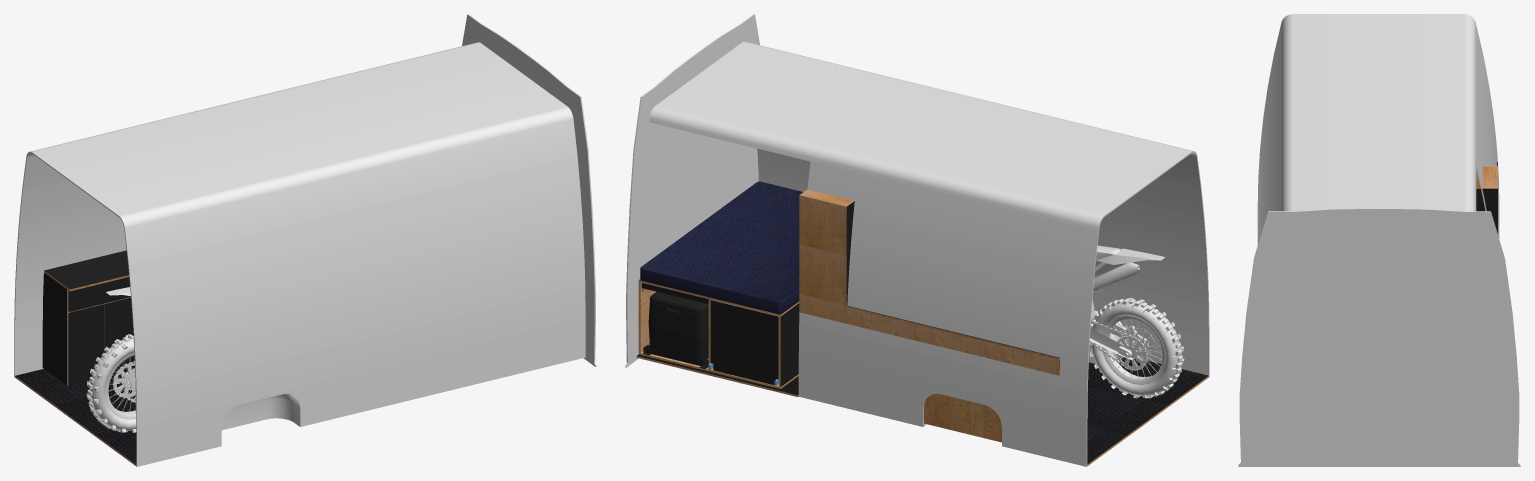
3 renders of one model, left to right at view 1: azimuth 30°, elevation 25°; view 2: azimuth 150°, elevation 25°; view 3: azimuth 270°, elevation 25°, orthographic.
Visible parts, largest first — view 1: Van_roof (×2), Front Van, object 43, ske195, Door_LH, End_LH, object 46, Bench_Top, Door_RH, DF_1; view 2: Van_roof (×2), Front Van, Mattres, Back (×6), ske195, object 43, DF_1, FRIDGE29L, Side (×2), Bench_Top; view 3: Front Van, Van_roof (×2), End_RH.
Boxes of the visible parts, x1,y1,x2,y2 form: Van_roof (×2): [14, 42, 585, 466]; Front Van: [462, 14, 596, 366]; object 43: [15, 369, 136, 465]; ske195: [89, 287, 136, 430]; Door_LH: [67, 304, 103, 386]; End_LH: [42, 272, 67, 385]; object 46: [219, 391, 302, 446]; Bench_Top: [44, 250, 129, 291]; Door_RH: [104, 297, 134, 375]; DF_1: [67, 277, 130, 311]; Van_roof (×2): [649, 41, 1209, 466]; Front Van: [625, 14, 759, 367]; Mattres: [640, 181, 803, 313]; Back (×6): [801, 195, 1057, 442]; ske195: [1091, 245, 1181, 396]; object 43: [636, 354, 1208, 466]; DF_1: [710, 300, 778, 384]; FRIDGE29L: [648, 292, 708, 362]; Side (×2): [638, 282, 799, 386]; Bench_Top: [846, 306, 1060, 359]; Front Van: [1238, 208, 1520, 466]; Van_roof (×2): [1257, 14, 1499, 244]; End_RH: [1476, 188, 1497, 233].
Size of the model in its own units: 3.89 by 2.12 by 2.1.
9 materials, 3 textured.
